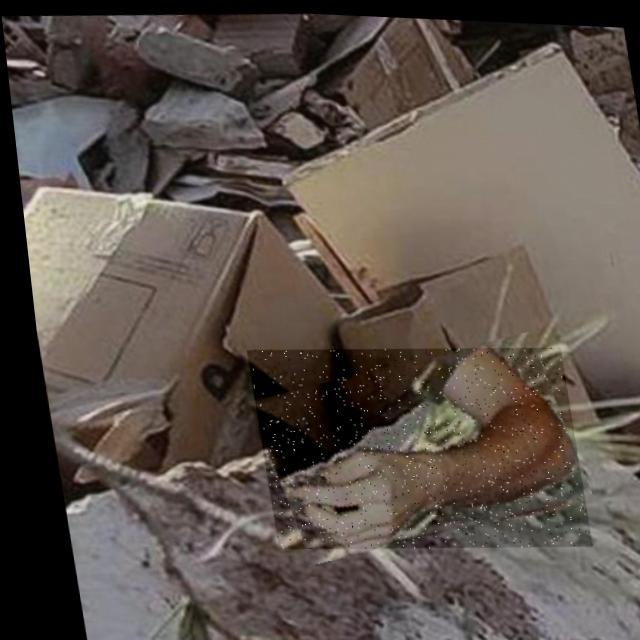Person in Rubble: (238, 332, 583, 558)
